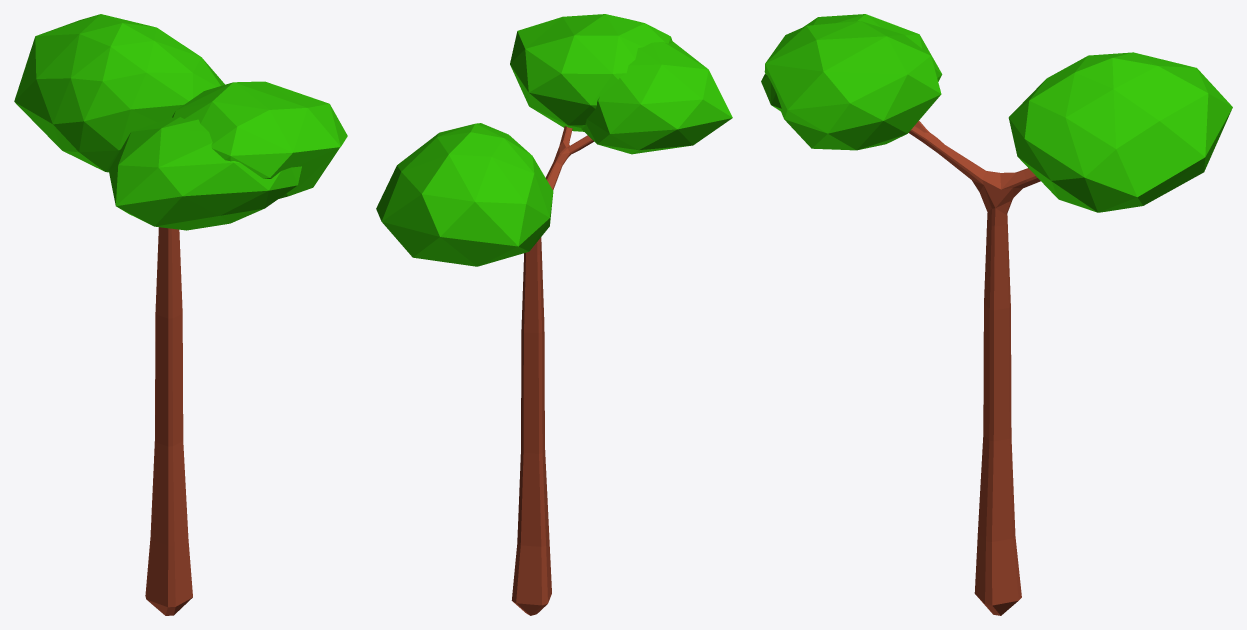
The picture shows the model from 3 angles, left to right: view 1: azimuth 30°, elevation 25°; view 2: azimuth 150°, elevation 25°; view 3: azimuth 270°, elevation 25°; orthographic projection. The views are drawn at different scales.
Visible parts, largest first — view 1: Tree; view 2: Tree; view 3: Tree.
Part boxes in pixels (box(x1,y1,x2,y2)): Tree: box(14, 14, 347, 615); Tree: box(376, 14, 732, 615); Tree: box(761, 14, 1232, 615).
Size of the model in its own units: 1.8 by 4.24 by 3.11.
